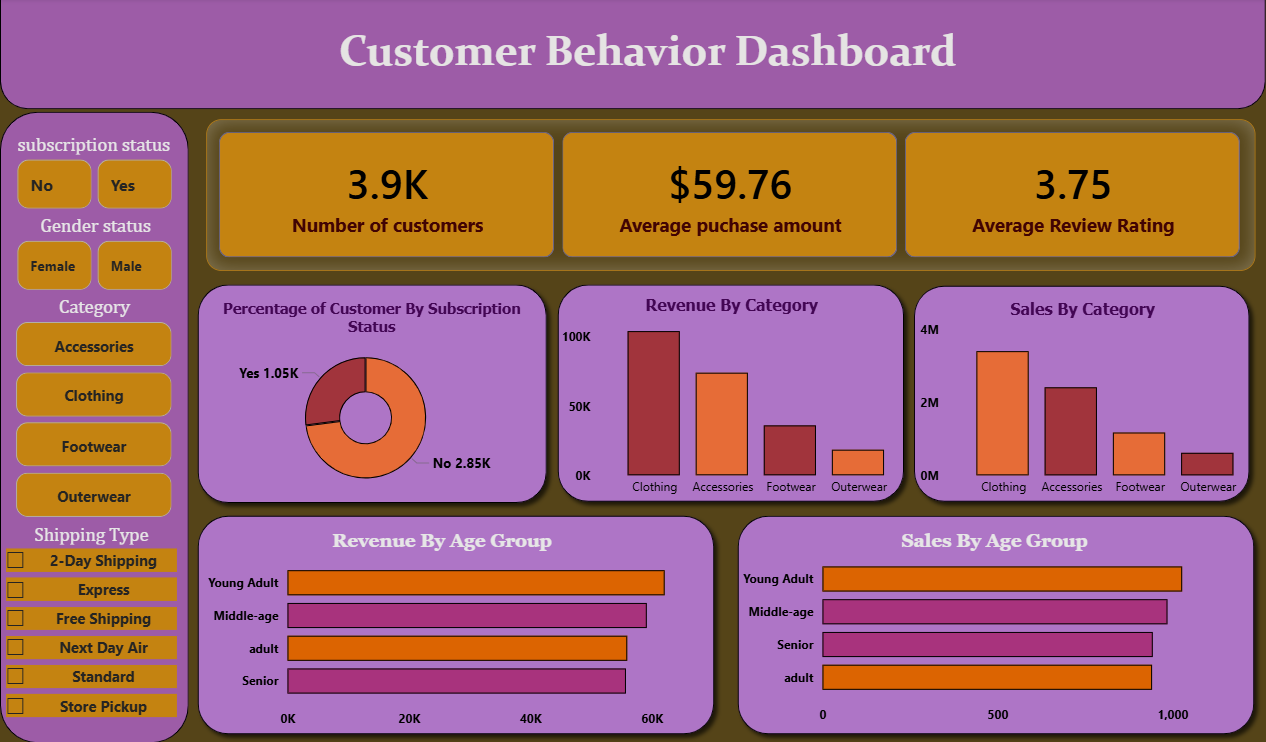

Layout of this report page (visuals, bound fields, positions):
{"tool":"powerbi","page":{"name":"Page 1","canvas":[1262,744],"ordinal":0},"visuals":[{"type":"shape","box":[0,0,1262.3,110.9],"z":0},{"type":"textbox","box":[316.6,21.6,658.9,67.6],"z":1000},{"type":"cardVisual","fields":{"Data":["public customer.Number of customers","public customer.Average puchase amount","public customer.Average Review Rating"]},"box":[205.5,120.7,1046.1,151.2],"z":2000},{"type":"shape","box":[188.6,277.3,366,236],"z":3000},{"type":"shape","box":[547.1,277.3,363.3,234.7],"z":4000},{"type":"shape","box":[902.9,278.4,352.7,233.4],"z":5000},{"type":"donutChart","fields":{"Y":["CountNonNull(public customer.customer_id)"],"Category":["public customer.subscription_status"]},"box":[205.5,335.5,318.2,167.1],"z":6000},{"type":"shape","box":[205.5,290.4,330.2,55.7],"z":7000},{"type":"clusteredColumnChart","fields":{"Y":["Sum(public customer.purchase_amount)"],"Category":["public customer.category"]},"box":[559.5,297,351.4,205.5],"z":8000},{"type":"shape","box":[564.8,286.4,330.2,38.5],"z":9000},{"type":"clusteredColumnChart","fields":{"Y":["Sum(public customer.customer_id)"],"Category":["public customer.category"]},"box":[917.5,316.9,342.1,185.6],"z":10000},{"type":"shape","box":[950.7,290.4,257.2,38.5],"z":11000},{"type":"shape","box":[0,114,188.3,629.8],"z":12000},{"type":"advancedSlicerVisual","title":"subscription status","fields":{"Values":["public customer.subscription_status"]},"box":[11.9,135.2,165.7,80.9],"z":13000},{"type":"advancedSlicerVisual","title":"Gender status","fields":{"Values":["public customer.gender"]},"box":[11.9,216.1,165.7,80.9],"z":14000},{"type":"advancedSlicerVisual","title":"Category","fields":{"Values":["public customer.category"]},"box":[10.6,297,165.7,226.7],"z":15000},{"type":"listSlicer","title":"Shipping Type","fields":{"Values":["public customer.shipping_type"]},"box":[6.6,523.7,175,198.9],"z":16000},{"type":"shape","box":[188.3,507.8,533,236],"z":17000},{"type":"shape","box":[726.6,507.8,533,236],"z":18000},{"type":"clusteredBarChart","fields":{"Category":["public customer.age_group"],"Y":["Sum(public customer.purchase_amount)"]},"box":[205.5,545,515.8,188.3],"z":19000},{"type":"shape","box":[290.4,513.1,301,55.7],"z":20000},{"type":"clusteredBarChart","fields":{"Category":["public customer.age_group"],"Y":["CountNonNull(public customer.customer_id)"]},"box":[739.9,541,515.8,188.3],"z":21000},{"type":"shape","box":[842,513.1,301,55.7],"z":22000}]}

Visuals, with their boxes in screenshot pixels (x1, y1, x2, y2), scaled from the page's 1262x744 canvas onto the 1266x742 screenshot:
shape: bbox=[0, 0, 1265, 111]
textbox: bbox=[318, 22, 979, 89]
cardVisual - public customer.Number of customers x public customer.Average puchase amount: bbox=[206, 120, 1256, 271]
shape: bbox=[189, 277, 556, 512]
shape: bbox=[549, 277, 913, 511]
shape: bbox=[906, 278, 1260, 510]
donutChart - CountNonNull(public customer.customer_id) x public customer.subscription_status: bbox=[206, 335, 525, 501]
shape: bbox=[206, 290, 537, 345]
clusteredColumnChart - Sum(public customer.purchase_amount) x public customer.category: bbox=[561, 296, 914, 501]
shape: bbox=[567, 286, 898, 324]
clusteredColumnChart - Sum(public customer.customer_id) x public customer.category: bbox=[920, 316, 1264, 501]
shape: bbox=[954, 290, 1212, 328]
shape: bbox=[0, 114, 189, 741]
"subscription status" advancedSlicerVisual: bbox=[12, 135, 178, 216]
"Gender status" advancedSlicerVisual: bbox=[12, 216, 178, 296]
"Category" advancedSlicerVisual: bbox=[11, 296, 177, 522]
"Shipping Type" listSlicer: bbox=[7, 522, 182, 721]
shape: bbox=[189, 506, 724, 741]
shape: bbox=[729, 506, 1264, 741]
clusteredBarChart - public customer.age_group x Sum(public customer.purchase_amount): bbox=[206, 544, 724, 731]
shape: bbox=[291, 512, 593, 567]
clusteredBarChart - public customer.age_group x CountNonNull(public customer.customer_id): bbox=[742, 540, 1260, 727]
shape: bbox=[845, 512, 1147, 567]
